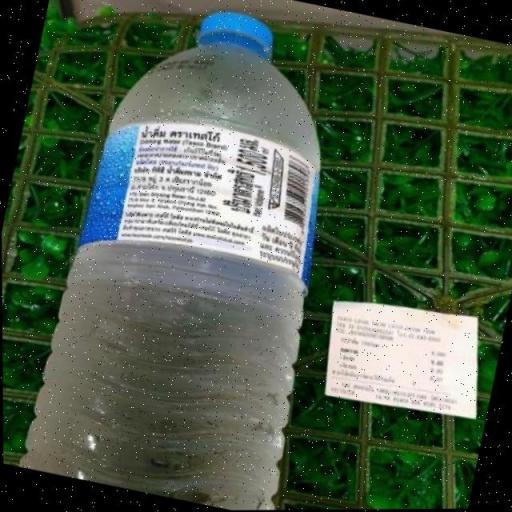plastic: (14, 12, 321, 511)
